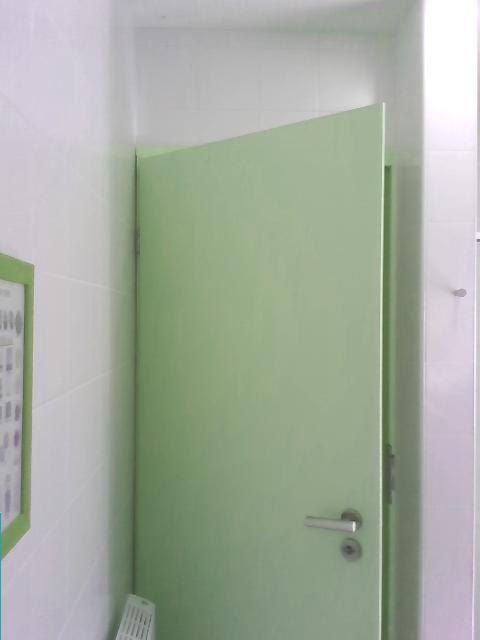closed_door: (125, 102, 398, 639)
